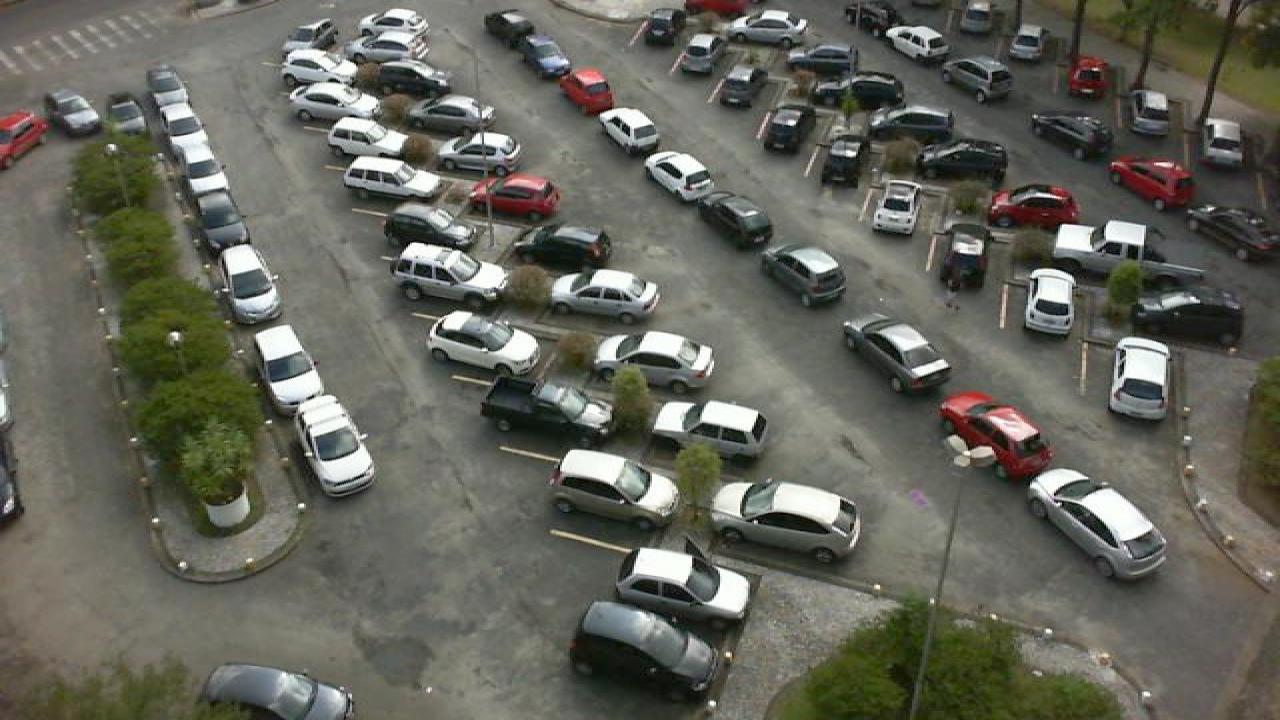Car: (1026, 464, 1172, 582), (566, 598, 718, 704), (706, 477, 866, 567), (614, 544, 752, 634), (548, 446, 684, 536), (478, 369, 616, 450), (936, 390, 1054, 480), (838, 313, 954, 395), (422, 307, 550, 379), (200, 661, 356, 720), (290, 393, 376, 497), (594, 326, 718, 396), (650, 398, 774, 466), (384, 238, 504, 308), (1052, 221, 1168, 289), (544, 264, 664, 326), (1130, 288, 1246, 351), (252, 322, 328, 405), (758, 242, 850, 308), (1104, 336, 1174, 421), (380, 200, 486, 256), (1186, 202, 1280, 264), (690, 189, 780, 253), (218, 241, 284, 323), (1106, 153, 1196, 210), (342, 154, 446, 203), (986, 181, 1082, 234), (526, 220, 616, 276), (638, 148, 724, 204), (470, 171, 560, 221), (1018, 268, 1080, 340), (438, 129, 526, 178), (1026, 111, 1112, 161), (322, 116, 410, 164), (284, 78, 378, 122), (868, 104, 960, 148), (404, 92, 496, 136), (922, 138, 1008, 184), (368, 56, 452, 100), (940, 56, 1012, 105), (276, 46, 362, 87), (938, 222, 988, 292), (596, 106, 664, 156), (866, 179, 922, 238), (876, 23, 952, 66), (726, 8, 810, 46), (824, 73, 906, 111), (198, 192, 252, 248), (44, 88, 102, 139), (0, 109, 50, 167), (560, 66, 616, 117), (352, 28, 432, 63), (814, 138, 868, 189), (782, 42, 858, 78), (1200, 114, 1250, 168), (524, 32, 578, 82), (1122, 88, 1174, 138), (842, 1, 912, 36), (758, 101, 806, 152), (354, 7, 430, 39), (480, 7, 540, 47), (674, 30, 724, 77), (714, 66, 764, 112), (280, 16, 342, 53), (1066, 54, 1112, 101), (146, 64, 192, 109), (188, 162, 238, 202), (634, 6, 682, 47), (178, 136, 228, 174), (164, 103, 210, 140), (1006, 24, 1046, 64), (954, 0, 998, 36)
